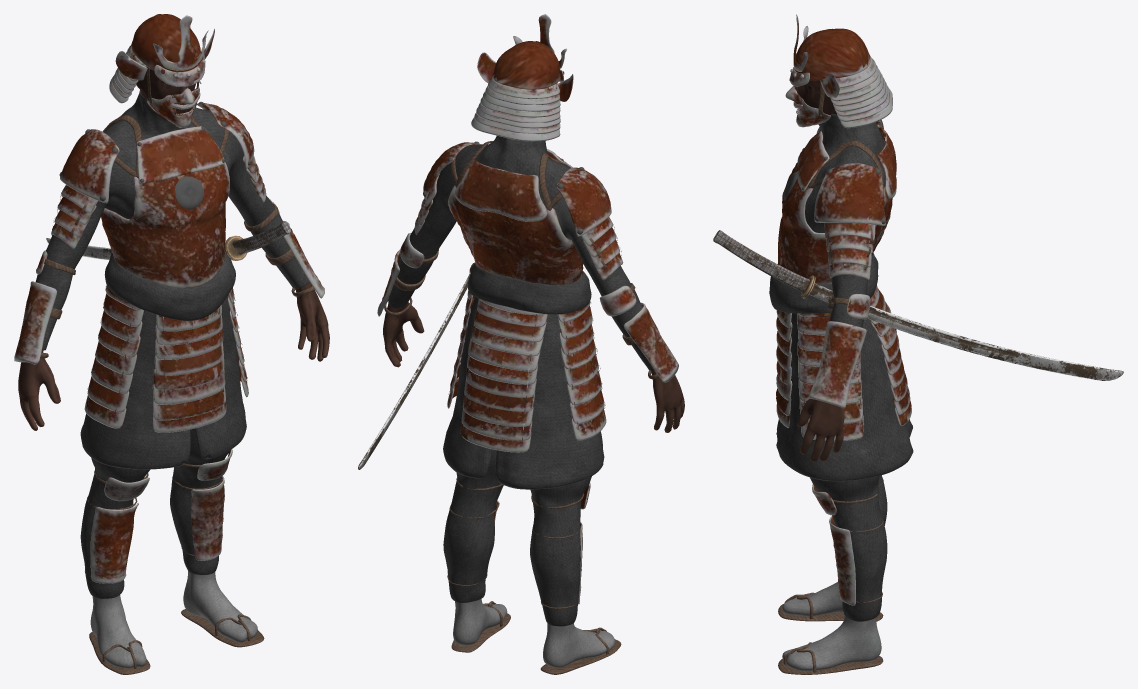
The model's file is samurai.glb.
The picture shows the model from 3 angles, left to right: view 1: azimuth 30°, elevation 25°; view 2: azimuth 150°, elevation 25°; view 3: azimuth 270°, elevation 25°; orthographic projection. The views are drawn at different scales.
Visible parts, largest first — view 1: armor_V2_L:Group2_blinn4_0, armor_shogun2:shogun1_lambert2_0, sword_6:polySurface1_blinn5_0; view 2: armor_V2_L:Group2_blinn4_0, armor_shogun2:shogun1_lambert2_0, sword_6:polySurface1_blinn5_0; view 3: armor_V2_L:Group2_blinn4_0, sword_6:polySurface1_blinn5_0, armor_shogun2:shogun1_lambert2_0.
Part boxes in pixels (bbox=[...]): armor_V2_L:Group2_blinn4_0: bbox=[14, 14, 324, 674]; armor_shogun2:shogun1_lambert2_0: bbox=[18, 66, 329, 430]; sword_6:polySurface1_blinn5_0: bbox=[46, 221, 291, 260]; armor_V2_L:Group2_blinn4_0: bbox=[377, 14, 678, 674]; armor_shogun2:shogun1_lambert2_0: bbox=[383, 302, 684, 432]; sword_6:polySurface1_blinn5_0: bbox=[358, 272, 470, 469]; armor_V2_L:Group2_blinn4_0: bbox=[769, 14, 913, 674]; sword_6:polySurface1_blinn5_0: bbox=[713, 230, 1123, 380]; armor_shogun2:shogun1_lambert2_0: bbox=[795, 80, 844, 461].
Bounding box in the file's own units: 28.14 × 56.48 × 33.58.
Materials: 3 (3 with a texture image).
